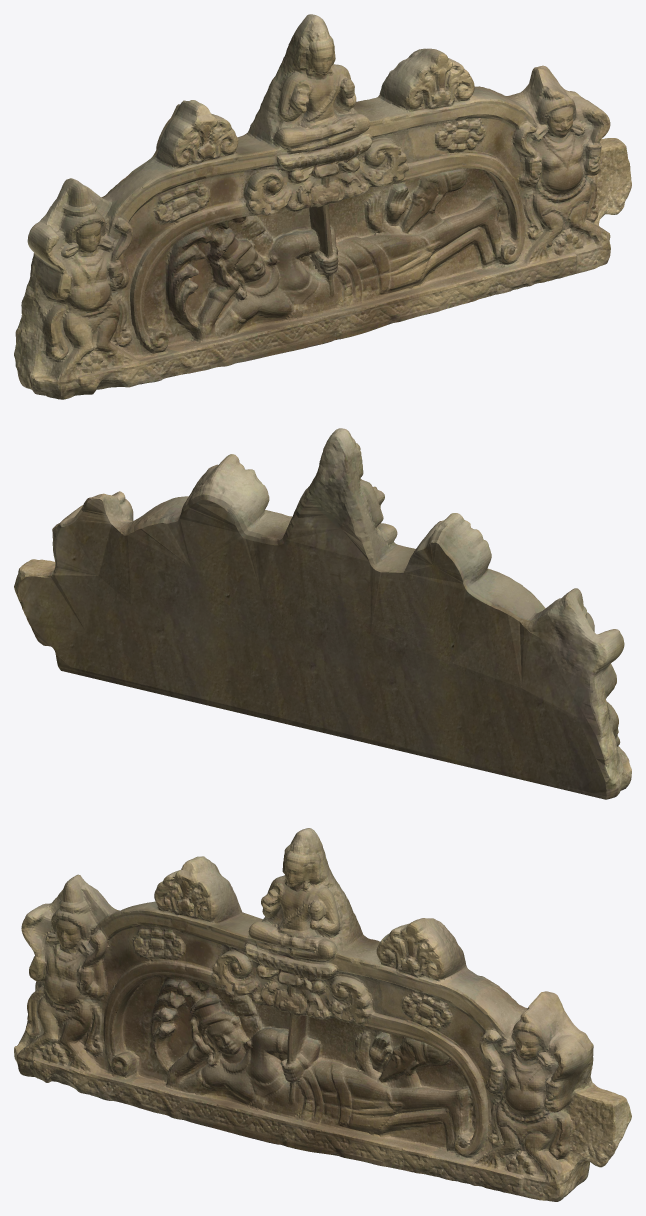
File: 2_phudieudansinhbrahma.glb
3 renders of one model, top to bottom at view 1: azimuth 30°, elevation 25°; view 2: azimuth 150°, elevation 25°; view 3: azimuth 330°, elevation 25°, orthographic. The views are drawn at different scales.
Parts seen in each view (by area): view 1: 2_phudieudansinhbrahma.001; view 2: 2_phudieudansinhbrahma.001; view 3: 2_phudieudansinhbrahma.001.
Boxes of the visible parts, box(x1,y1,x2,y2) form: 2_phudieudansinhbrahma.001: box(14, 14, 631, 399); 2_phudieudansinhbrahma.001: box(14, 428, 631, 799); 2_phudieudansinhbrahma.001: box(14, 828, 631, 1201).
Bounding box in the file's own units: 2.37 × 1.14 × 0.2918.
1 material, 1 textured.
